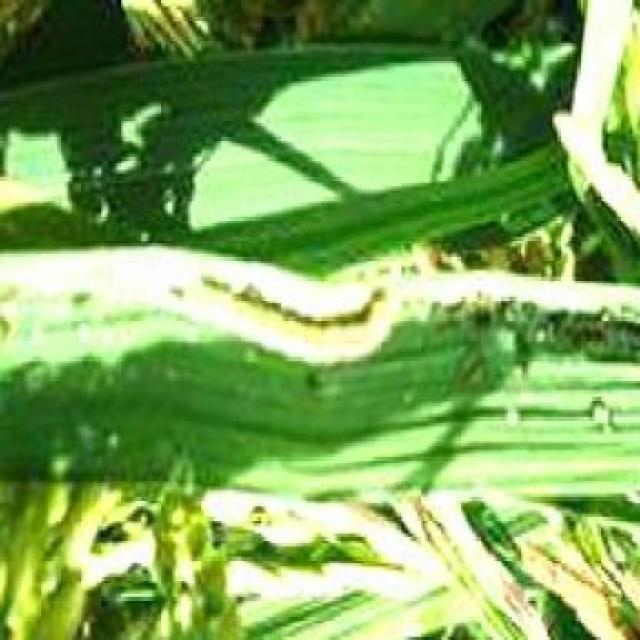leaf-folder: (162, 259, 430, 387)
